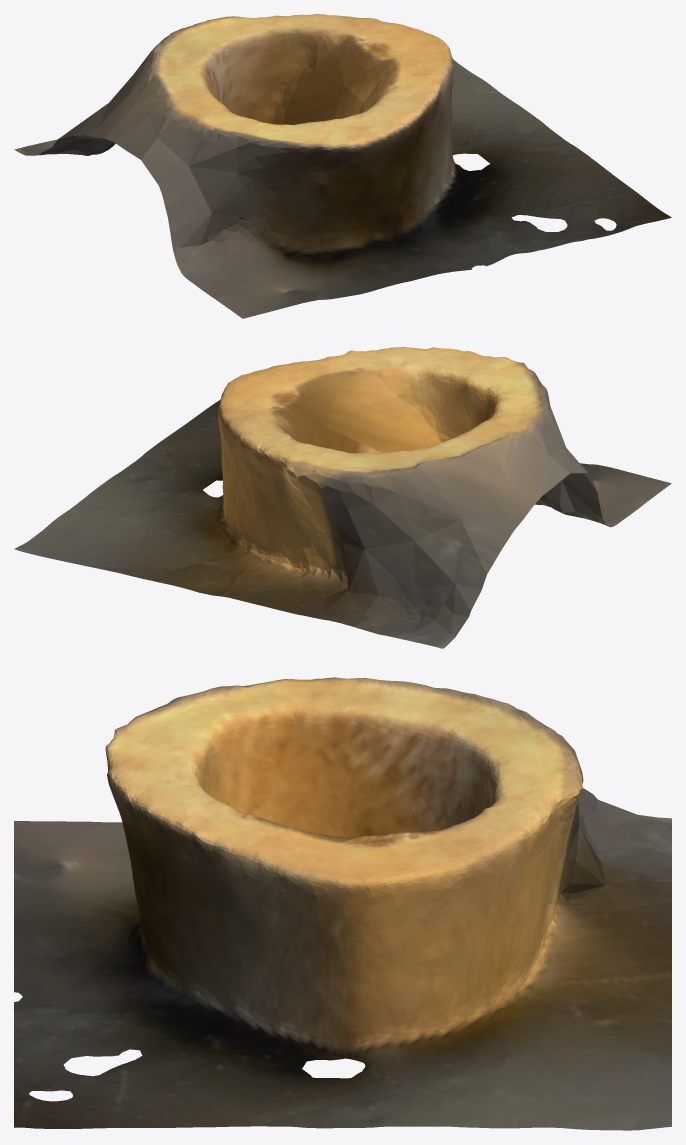
3 renders of one model, top to bottom at view 1: azimuth 30°, elevation 25°; view 2: azimuth 150°, elevation 25°; view 3: azimuth 270°, elevation 25°, orthographic. The views are drawn at different scales.
Parts seen in each view (by area): view 1: Node1; view 2: Node1; view 3: Node1.
Part boxes in pixels (x1,y1,x2,y2): Node1: (14,14,671,318); Node1: (14,347,671,648); Node1: (14,677,671,1130).
Size of the model in its own units: 0.0711 by 0.0207 by 0.0656.
1 material, 1 textured.
